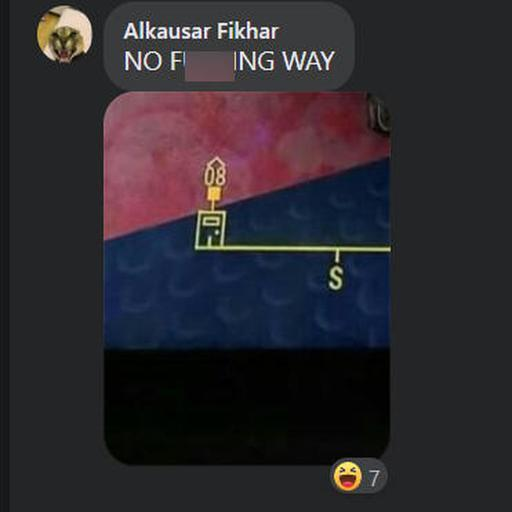Crewmate: (194, 208, 226, 248)
